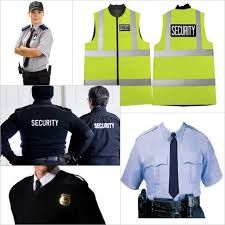gun: (135, 187, 151, 217)
uniform: (16, 20, 51, 78)
